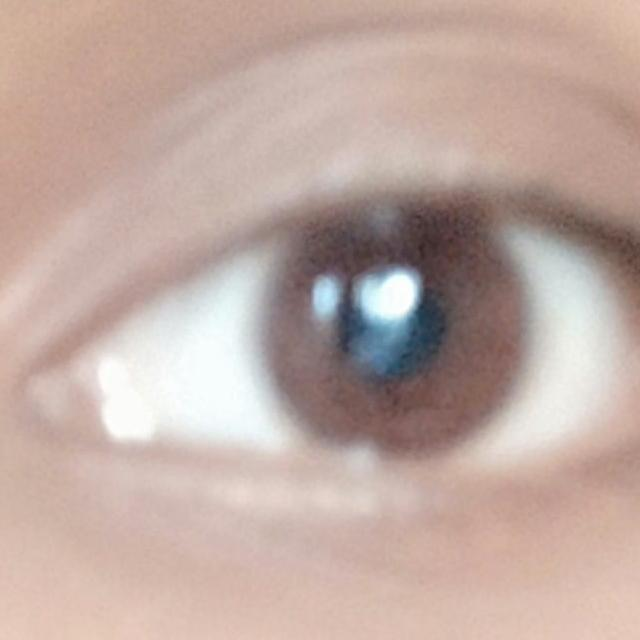eye: (94, 204, 640, 473)
iris: (258, 209, 527, 461)
